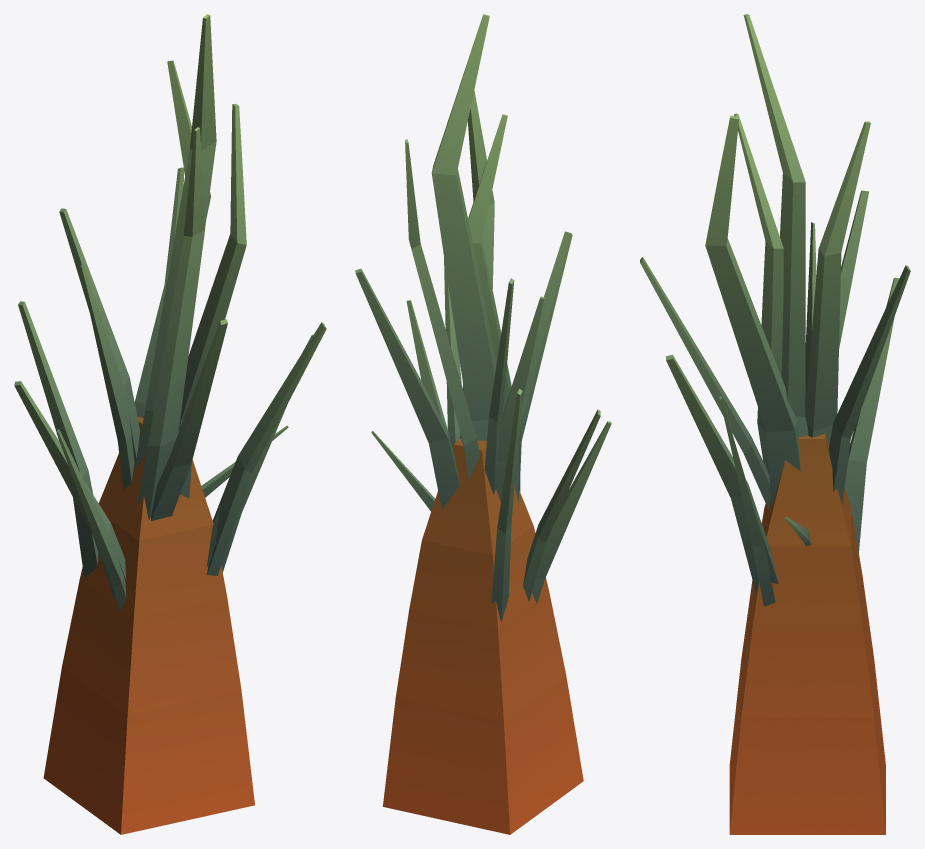
File: ItemPropsCarrotTree_1.fbx
The picture shows the model from 3 angles, left to right: view 1: azimuth 30°, elevation 25°; view 2: azimuth 150°, elevation 25°; view 3: azimuth 270°, elevation 25°; orthographic projection. The views are drawn at different scales.
Parts seen in each view (by area): view 1: Cube.009; view 2: Cube.009; view 3: Cube.009.
Part boxes in pixels (x1=…): Cube.009: x1=14, y1=14, x2=326, y2=834; Cube.009: x1=355, y1=14, x2=611, y2=834; Cube.009: x1=640, y1=14, x2=910, y2=834.
Bounding box in the file's own units: 246 × 723 × 222.
